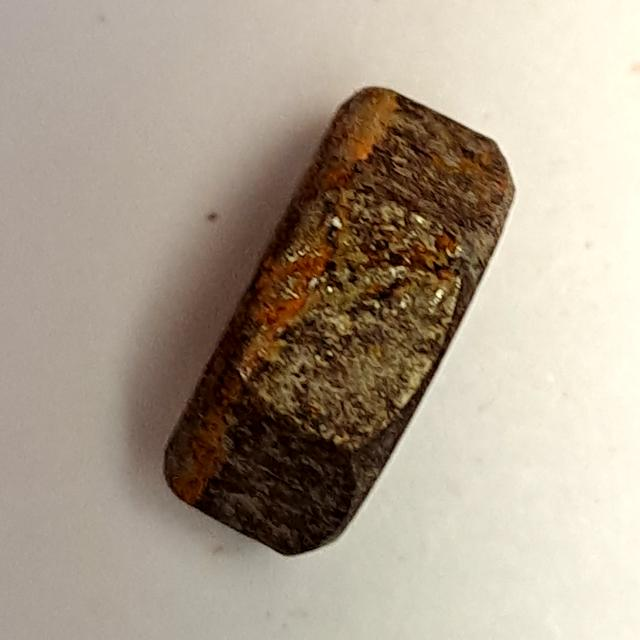Rust: (145, 78, 519, 567)
